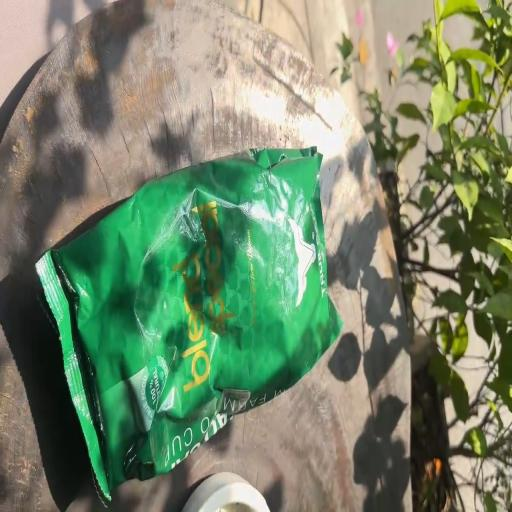cafe_xay: (36, 146, 342, 500)
